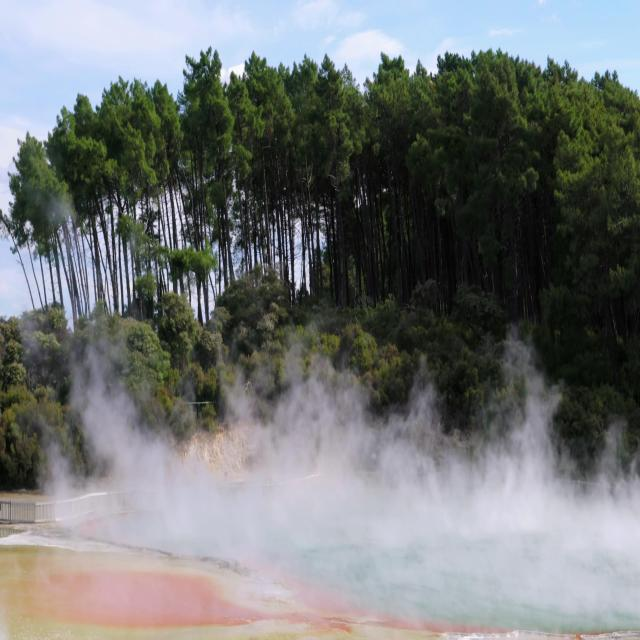Smoke: (40, 304, 640, 628)
